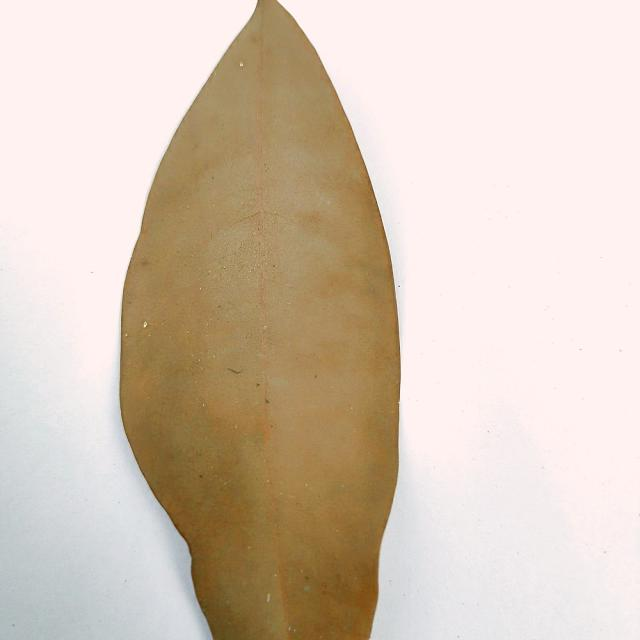Dry_Leaf-Lychee: (118, 0, 402, 639)
